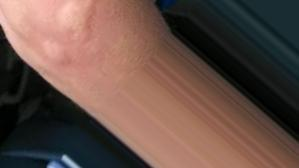Mosquito: (55, 0, 94, 41), (49, 42, 68, 64)
